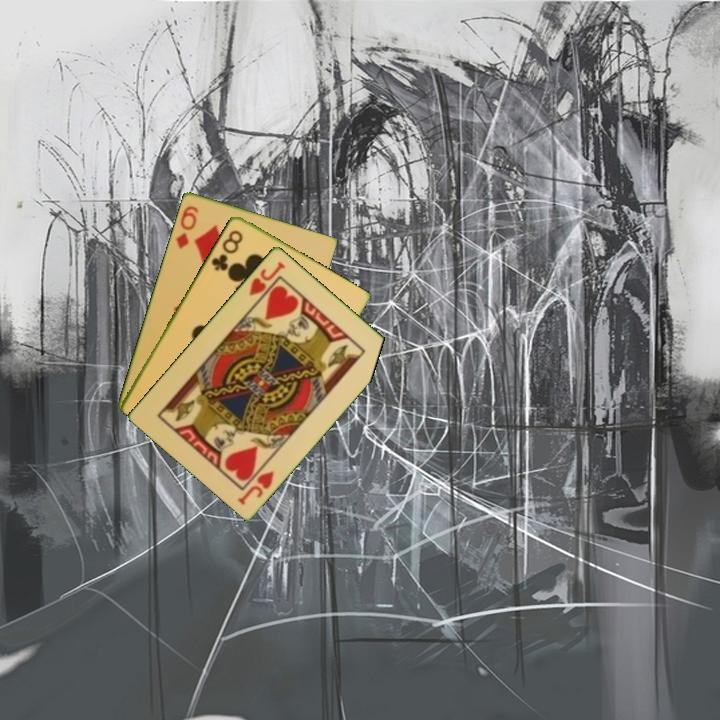6d: (172, 202, 201, 251)
8c: (208, 226, 246, 274)
Jh: (245, 257, 288, 307), (234, 467, 277, 507)
